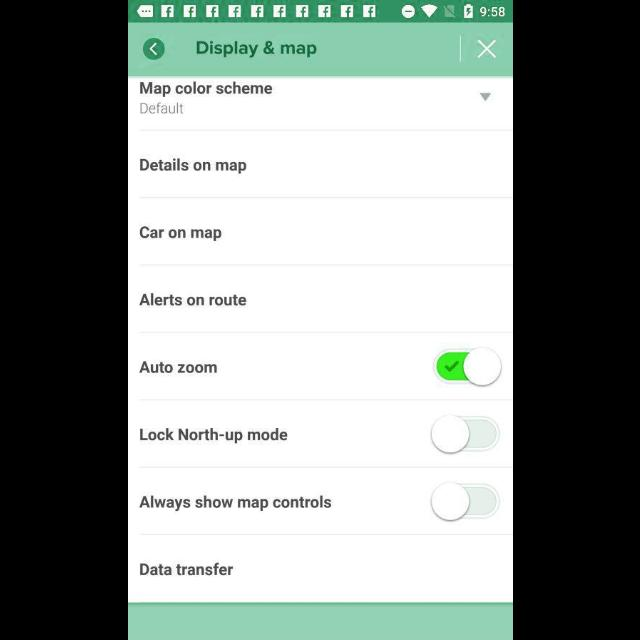icon: (142, 38, 164, 62), (476, 40, 496, 59), (480, 94, 490, 102)
switch: (430, 482, 500, 522), (430, 414, 500, 454), (432, 348, 502, 387)
text: (139, 494, 331, 512), (140, 428, 288, 444), (139, 82, 271, 98), (140, 158, 246, 176), (197, 42, 316, 58), (139, 562, 233, 576), (139, 226, 221, 242), (139, 294, 247, 306), (139, 361, 217, 374), (139, 102, 183, 114)
toolbar: (128, 24, 512, 76)
uppertaskbar: (128, 1, 512, 23)
